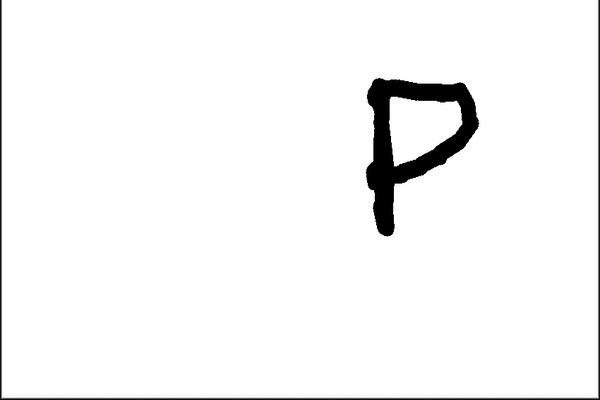P: (350, 59, 493, 246)
